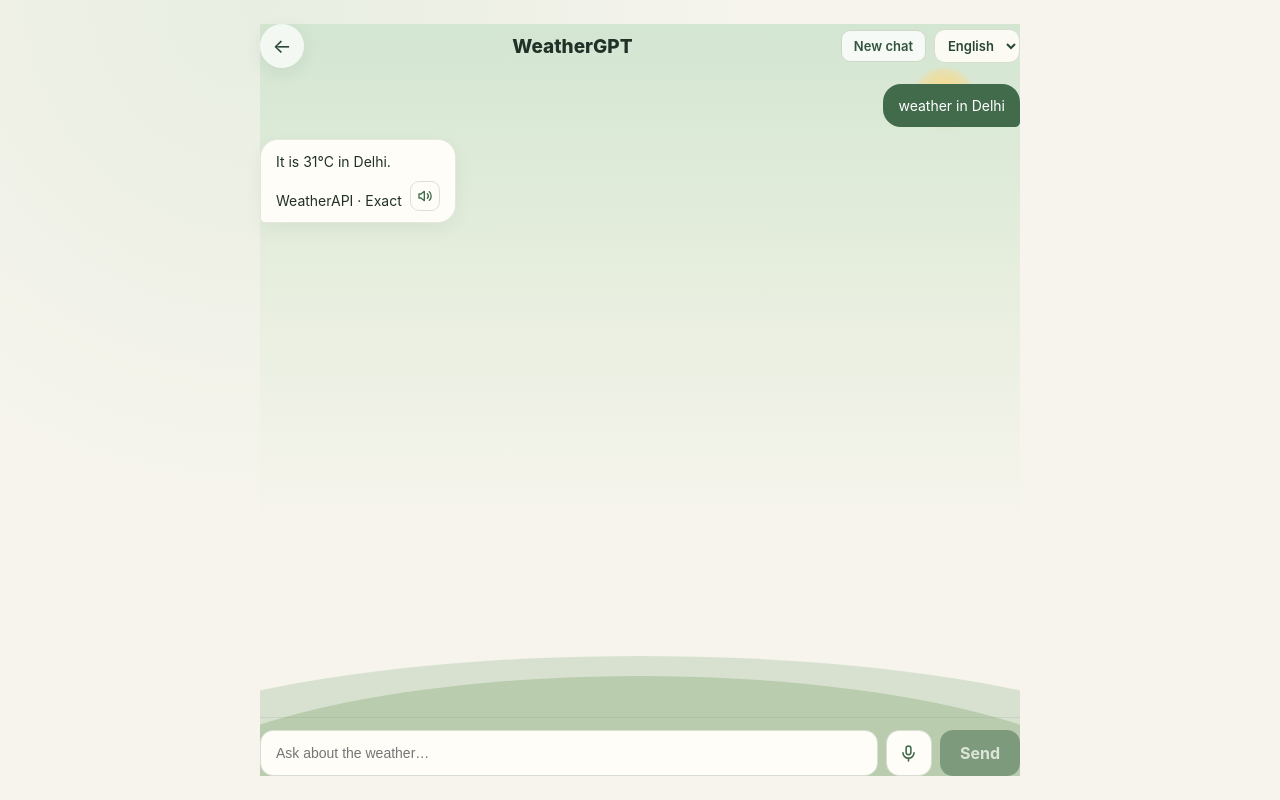
carries the last location as context on a follow-up
In the field named "Your question": (569, 753) x1=260 y1=730 x2=878 y2=776, type "what about tomorrow?"
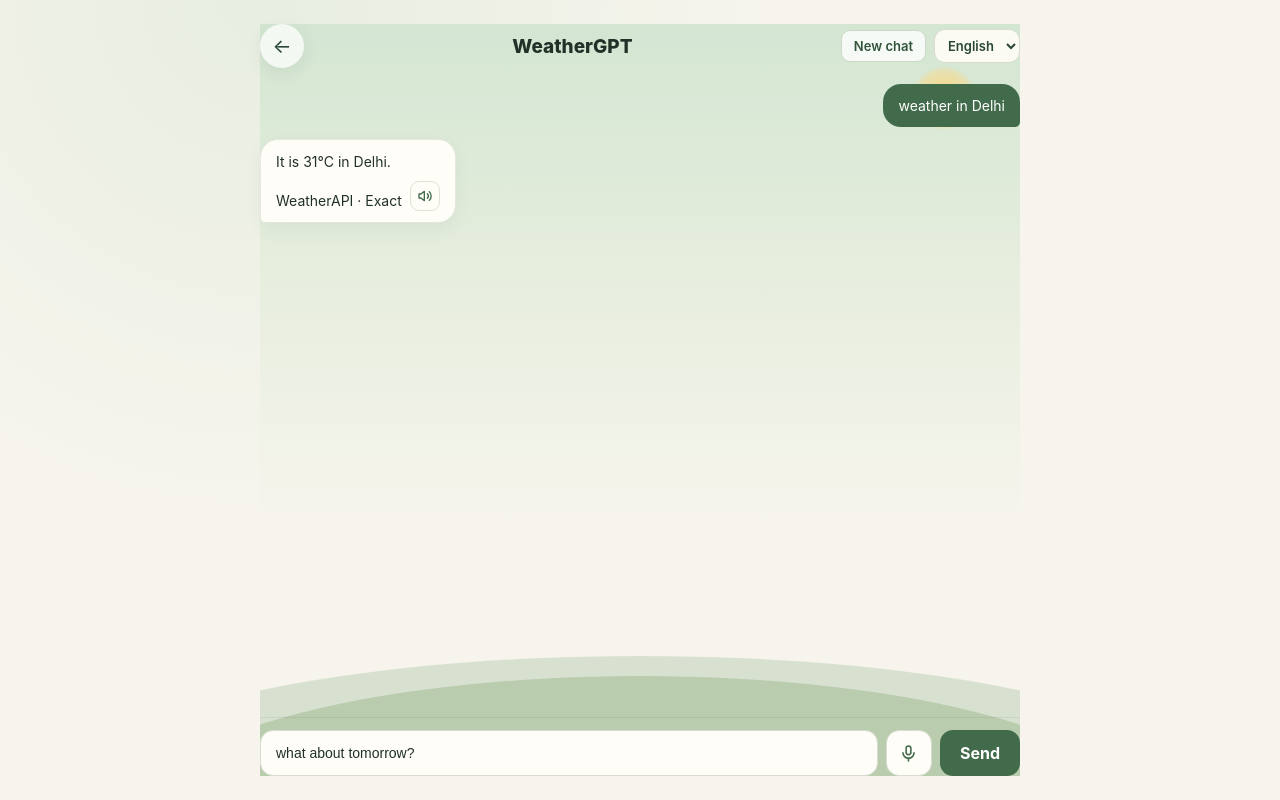
Click the button "Send": (980, 753) x1=940 y1=730 x2=1020 y2=776
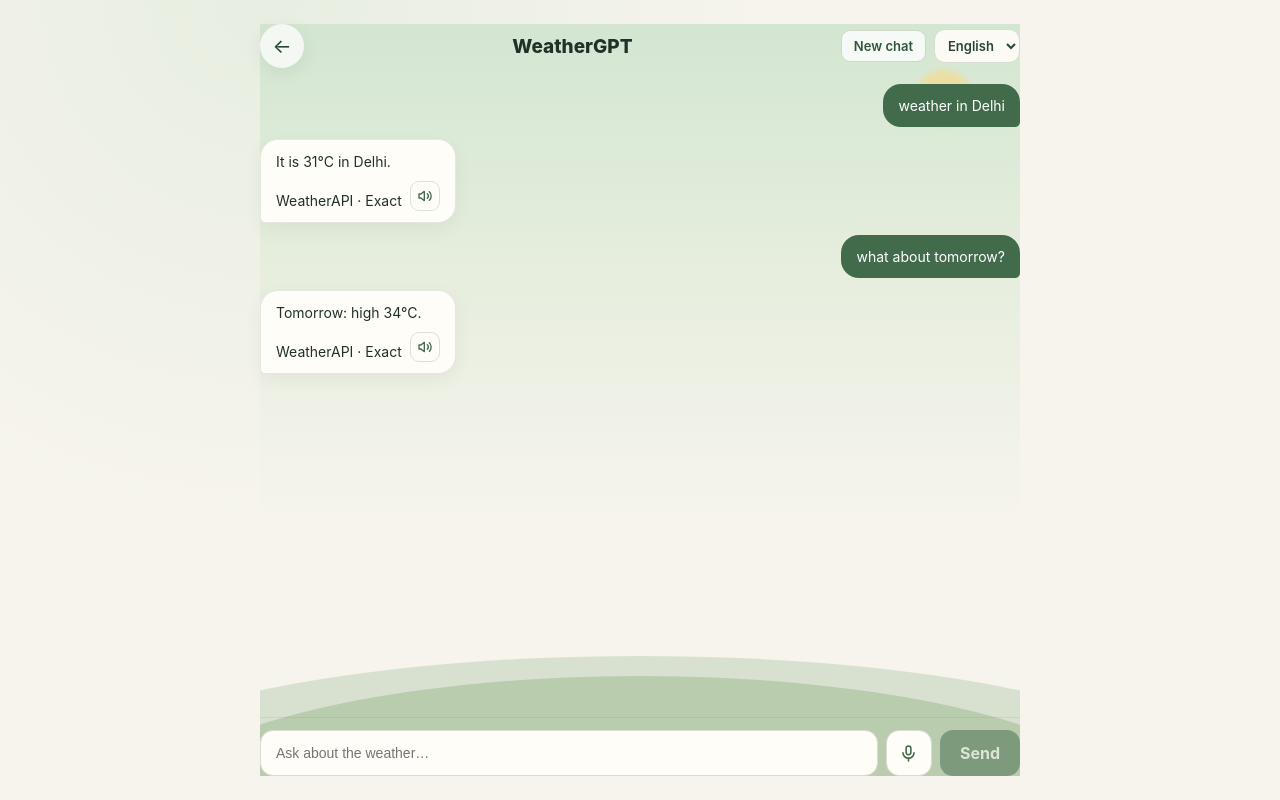
Check: the text "Tomorrow: high 34°C." is shown, box x1=276 y1=302 x2=440 y2=323
